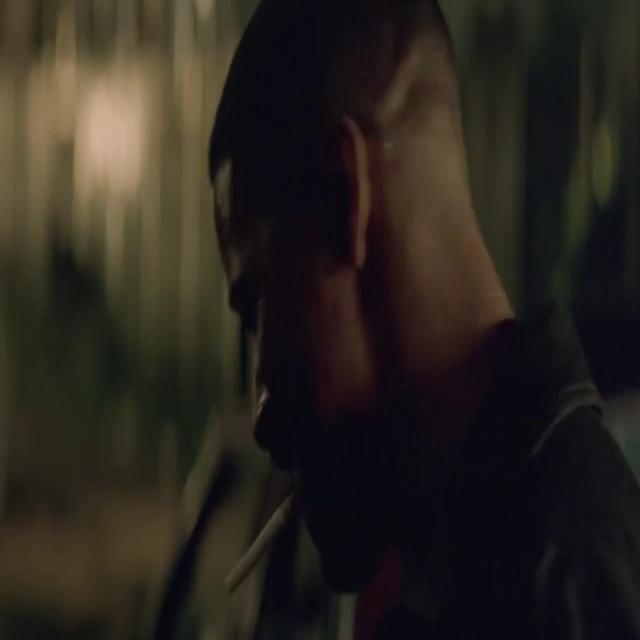Smooking: (215, 476, 303, 602)
